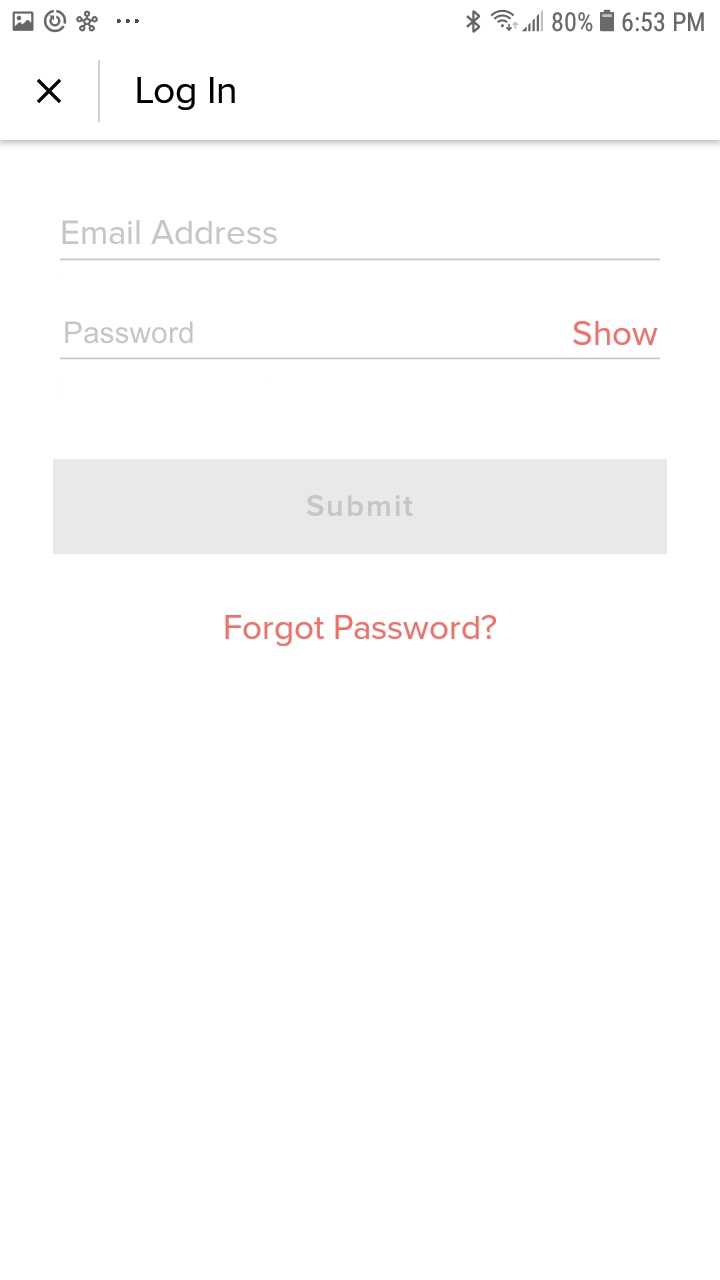EditText: (61, 313, 661, 361), (60, 220, 660, 262)
Icon: (37, 79, 63, 105)
Text: (225, 615, 497, 647), (63, 220, 278, 246), (137, 77, 236, 111), (65, 321, 194, 345), (573, 321, 658, 347)
TextButton: (53, 459, 667, 555)
UpperTaskBar: (1, 1, 720, 34)
